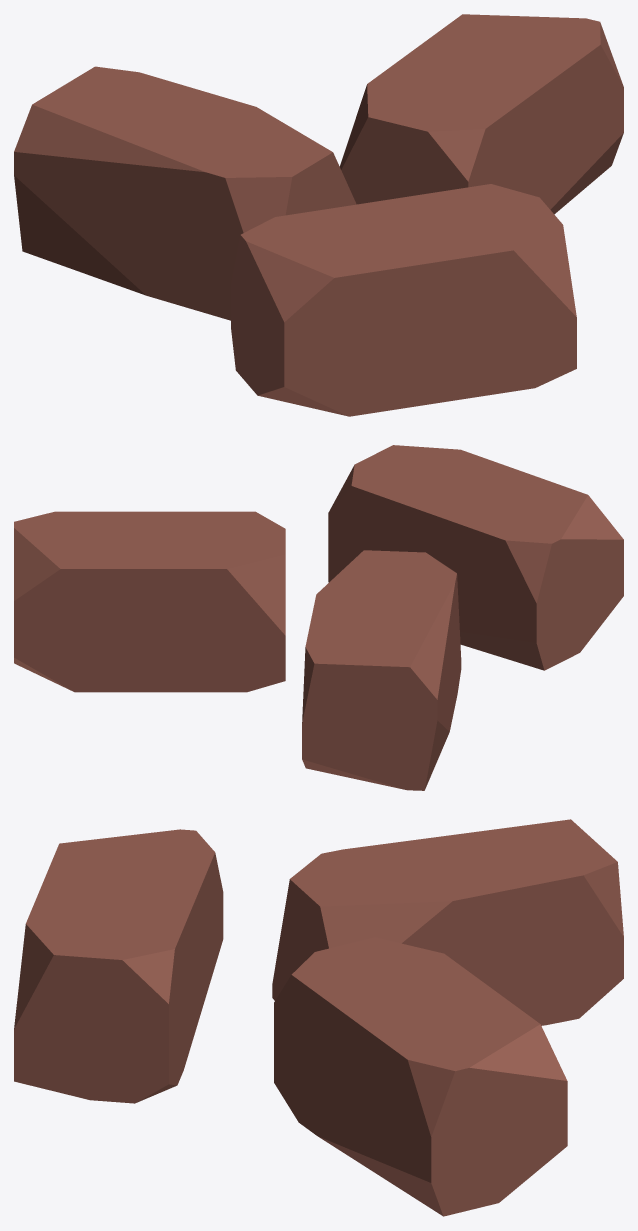
The model's file is Brick_B_09.FBX.
3 views of the same model, one above another, from view 1: azimuth 30°, elevation 25°; view 2: azimuth 150°, elevation 25°; view 3: azimuth 270°, elevation 25° (orthographic). The views are drawn at different scales.
Parts seen in each view (by area): view 1: Brick_B_09; view 2: Brick_B_09; view 3: Brick_B_09.
Part boxes in pixels (bbox=[...]): Brick_B_09: bbox=[14, 14, 623, 416]; Brick_B_09: bbox=[14, 445, 623, 790]; Brick_B_09: bbox=[14, 819, 623, 1216].
Bounding box in the file's own units: 2.3 × 0.5673 × 2.2.
